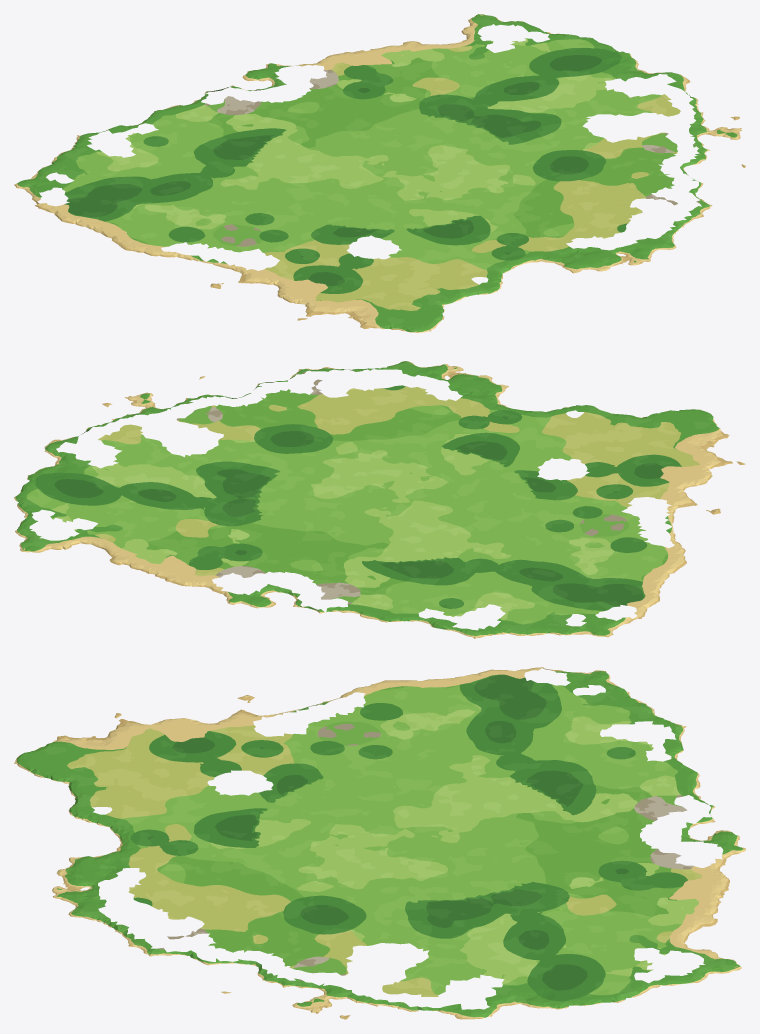
Rendered from Isl-start1-Ground.fbx.
3 views of the same model, one above another, from view 1: azimuth 30°, elevation 25°; view 2: azimuth 150°, elevation 25°; view 3: azimuth 270°, elevation 25° (orthographic). The views are drawn at different scales.
Parts seen in each view (by area): view 1: Isl-start1-Ground-c11, Isl-start1-Ground-c22, Isl-start1-Ground-c12, Isl-start1-Ground-c21, Isl-start1-Ground-c32, Isl-start1-Ground-c02; view 2: Isl-start1-Ground-c22, Isl-start1-Ground-c11, Isl-start1-Ground-c12, Isl-start1-Ground-c21, Isl-start1-Ground-c32, Isl-start1-Ground-c02; view 3: Isl-start1-Ground-c22, Isl-start1-Ground-c11, Isl-start1-Ground-c12, Isl-start1-Ground-c21, Isl-start1-Ground-c32, Isl-start1-Ground-c31.
Part boxes in pixels (<box>): Isl-start1-Ground-c11: <box>111,168,518,329</box>; Isl-start1-Ground-c22: <box>254,14,671,168</box>; Isl-start1-Ground-c12: <box>26,70,386,237</box>; Isl-start1-Ground-c21: <box>388,100,745,273</box>; Isl-start1-Ground-c32: <box>586,37,690,95</box>; Isl-start1-Ground-c02: <box>14,180,83,226</box>; Isl-start1-Ground-c22: <box>15,434,390,606</box>; Isl-start1-Ground-c11: <box>390,405,745,574</box>; Isl-start1-Ground-c12: <box>251,505,669,638</box>; Isl-start1-Ground-c21: <box>110,361,519,504</box>; Isl-start1-Ground-c32: <box>14,431,86,500</box>; Isl-start1-Ground-c02: <box>596,589,660,637</box>; Isl-start1-Ground-c22: <box>420,835,745,1000</box>; Isl-start1-Ground-c11: <box>35,680,423,838</box>; Isl-start1-Ground-c12: <box>420,673,739,839</box>; Isl-start1-Ground-c21: <box>52,835,423,1001</box>; Isl-start1-Ground-c32: <box>421,996,624,1019</box>; Isl-start1-Ground-c31: <box>292,997,421,1019</box>.
Size of the model in its own units: 145 by 0.4888 by 127.
